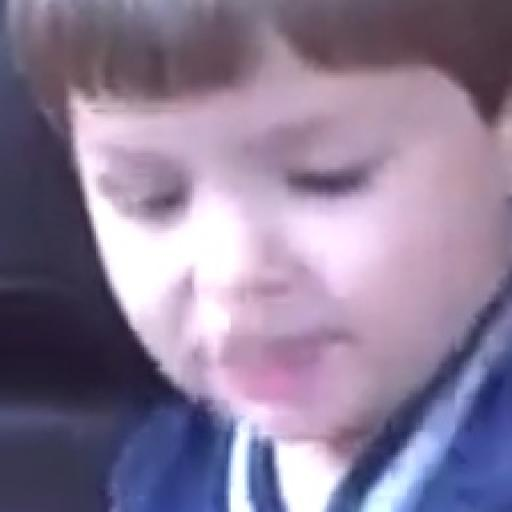Autism: (60, 0, 512, 489)
